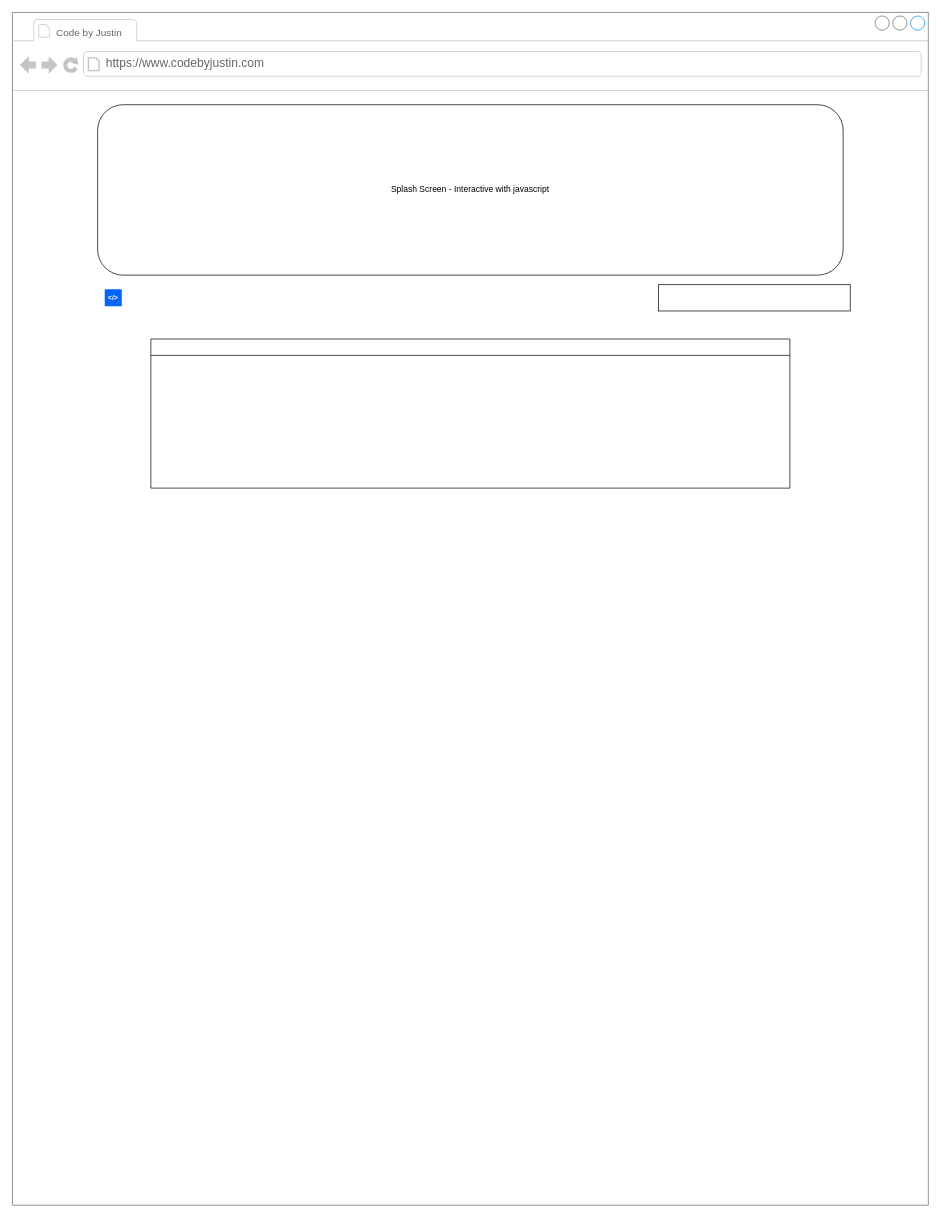
Some shapes in this 941 by 1218 pixel diagram are drawn without their labels. The box of each missing label's shape, as (x1, y1, x2, y2) in pixels:
About Container: (150, 338, 790, 488)
Nav bar - Stays at the top when scrolling: (658, 284, 850, 311)
